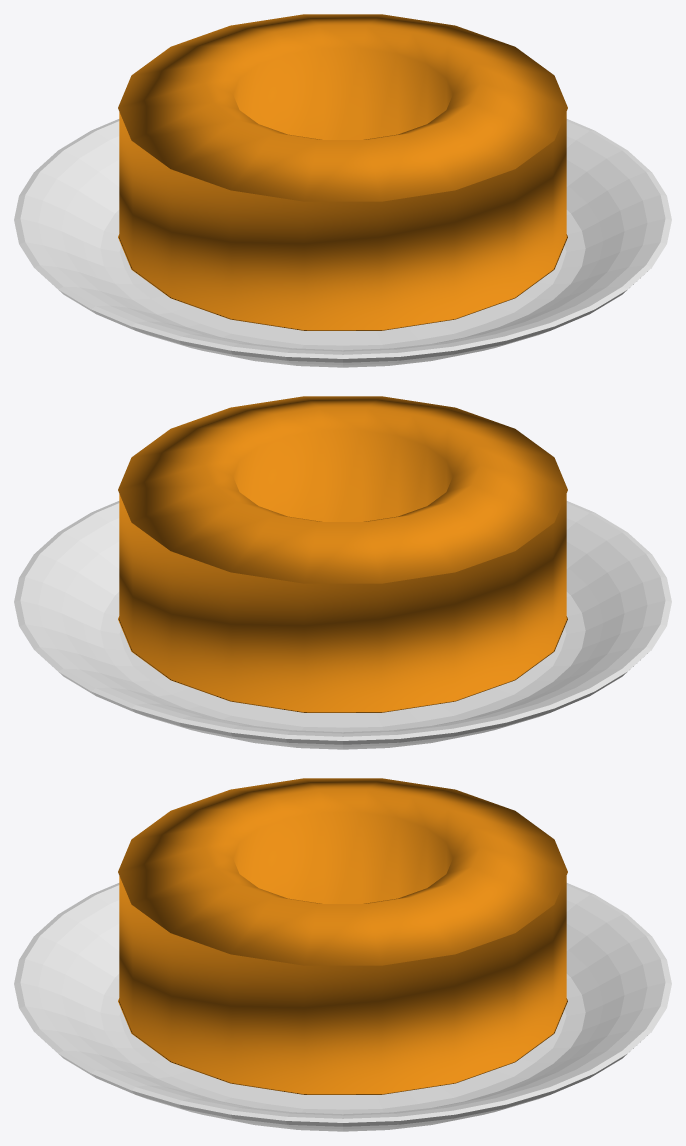
Rendered from BOLU.fbx.
The picture shows the model from 3 angles, top to bottom: view 1: azimuth 30°, elevation 25°; view 2: azimuth 150°, elevation 25°; view 3: azimuth 270°, elevation 25°; orthographic projection.
Visible parts, largest first — view 1: Cylinder.001, Cylinder; view 2: Cylinder.001, Cylinder; view 3: Cylinder.001, Cylinder.
Part boxes in pixels (<box>): Cylinder.001: <box>118,14,567,330</box>; Cylinder: <box>14,119,671,367</box>; Cylinder.001: <box>118,396,567,712</box>; Cylinder: <box>14,501,671,749</box>; Cylinder.001: <box>118,778,567,1094</box>; Cylinder: <box>14,883,671,1131</box>.
Bounding box in the file's own units: 231 × 72.21 × 231.
